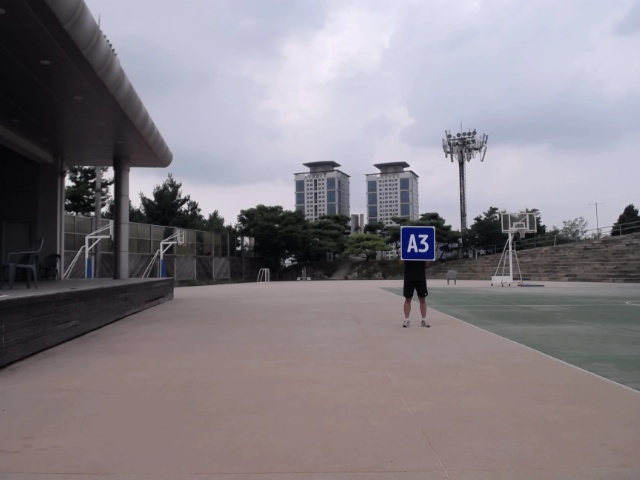delivery_a3: (401, 226, 435, 260)
